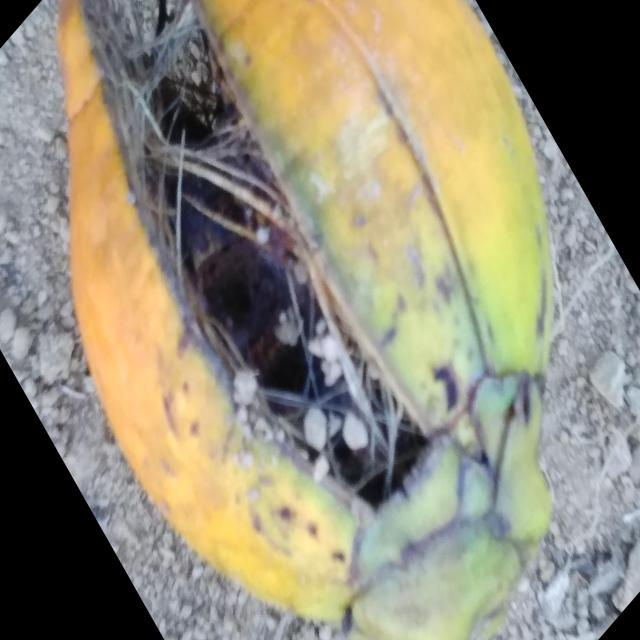damaged: (54, 4, 552, 640)
